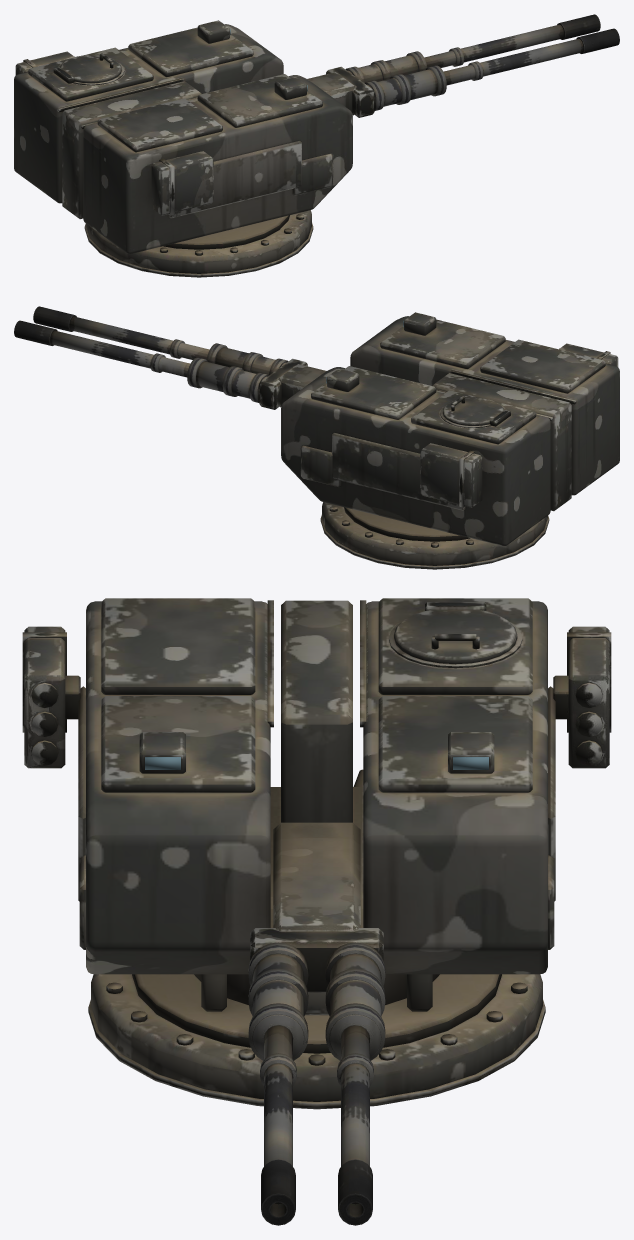
The model's file is turret_kit_t1_ash.glb.
3 renders of one model, top to bottom at view 1: azimuth 30°, elevation 25°; view 2: azimuth 150°, elevation 25°; view 3: azimuth 270°, elevation 25°, orthographic. The views are drawn at different scales.
Visible parts, largest first — view 1: turret_twin_t1, guns, pods; view 2: turret_twin_t1, guns, pods; view 3: turret_twin_t1, guns, pods.
Boxes of the visible parts, x1,y1,x2,y2 form: turret_twin_t1: (14,20,352,277); guns: (308,14,619,117); pods: (15,51,213,215); turret_twin_t1: (281,312,619,569); guns: (14,306,325,409); pods: (420,343,618,507); turret_twin_t1: (78,598,555,1109); guns: (248,822,385,1225); pods: (22,626,611,768).
Size of the model in its own units: 2.41 by 0.695 by 1.15.
Materials: 4 (3 with a texture image).
